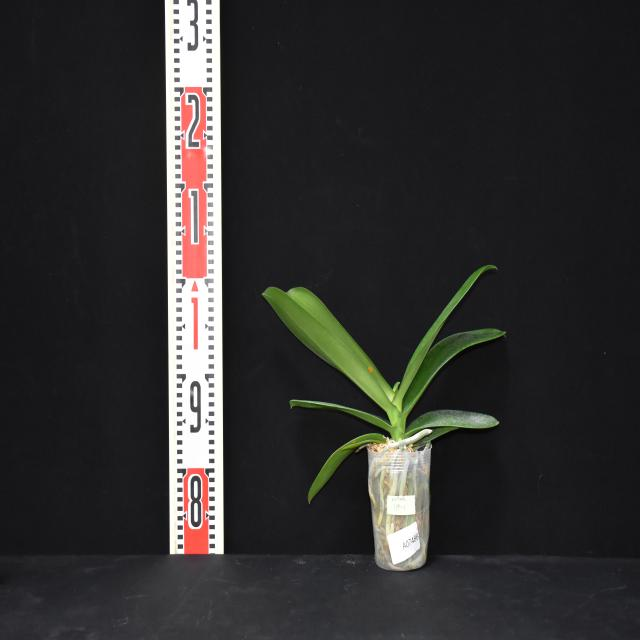leaf: (263, 287, 401, 427), (393, 263, 498, 412), (285, 289, 397, 402), (401, 331, 509, 419), (309, 435, 389, 502), (290, 400, 396, 433), (403, 409, 503, 442)
